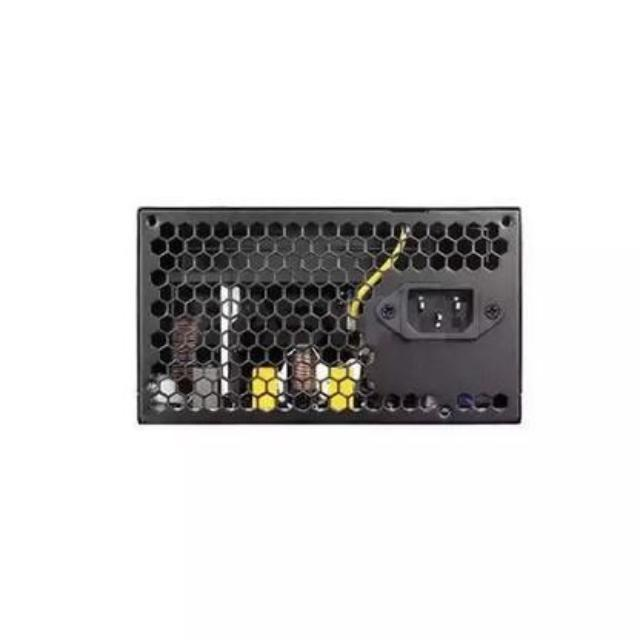PSU: (128, 200, 528, 432)
